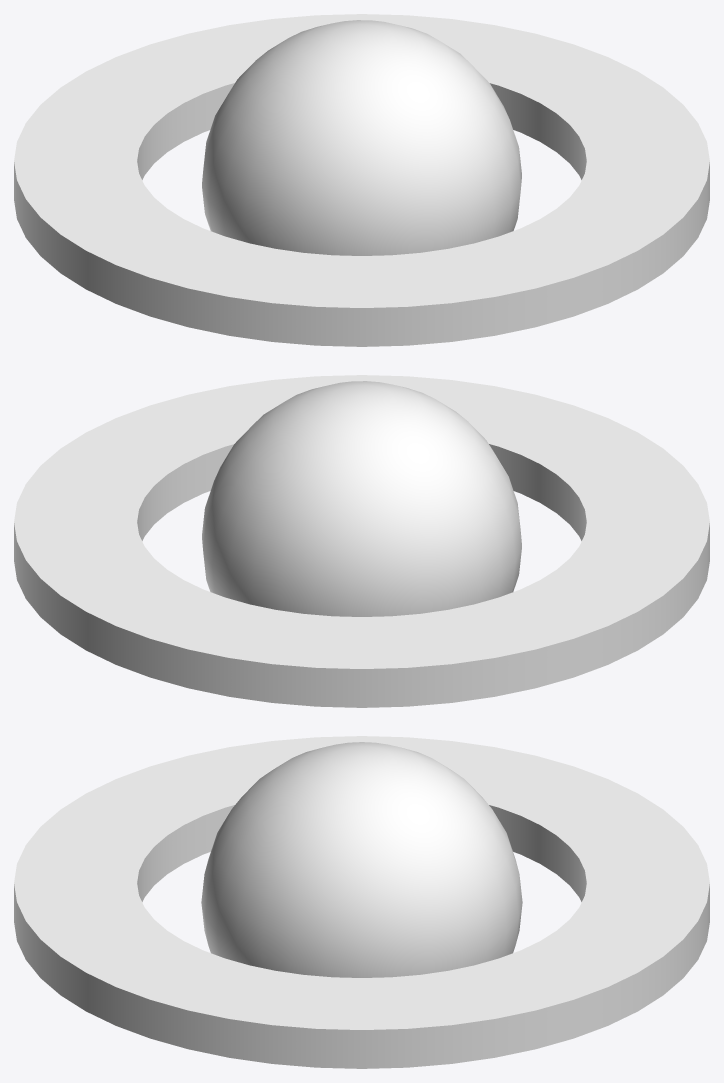
The model's file is item-6.glb.
3 renders of one model, top to bottom at view 1: azimuth 30°, elevation 25°; view 2: azimuth 150°, elevation 25°; view 3: azimuth 270°, elevation 25°, orthographic.
Visible parts, largest first — view 1: plat, planet; view 2: plat, planet; view 3: plat, planet.
Boxes of the visible parts, x1,y1,x2,y2 form: plat: (14,14,709,346); planet: (202,20,521,255); plat: (14,375,709,707); planet: (202,381,521,616); plat: (14,736,709,1068); planet: (201,742,522,977).
Size of the model in its own units: 1.3 by 0.6 by 1.3.
2 materials, 2 textured.
